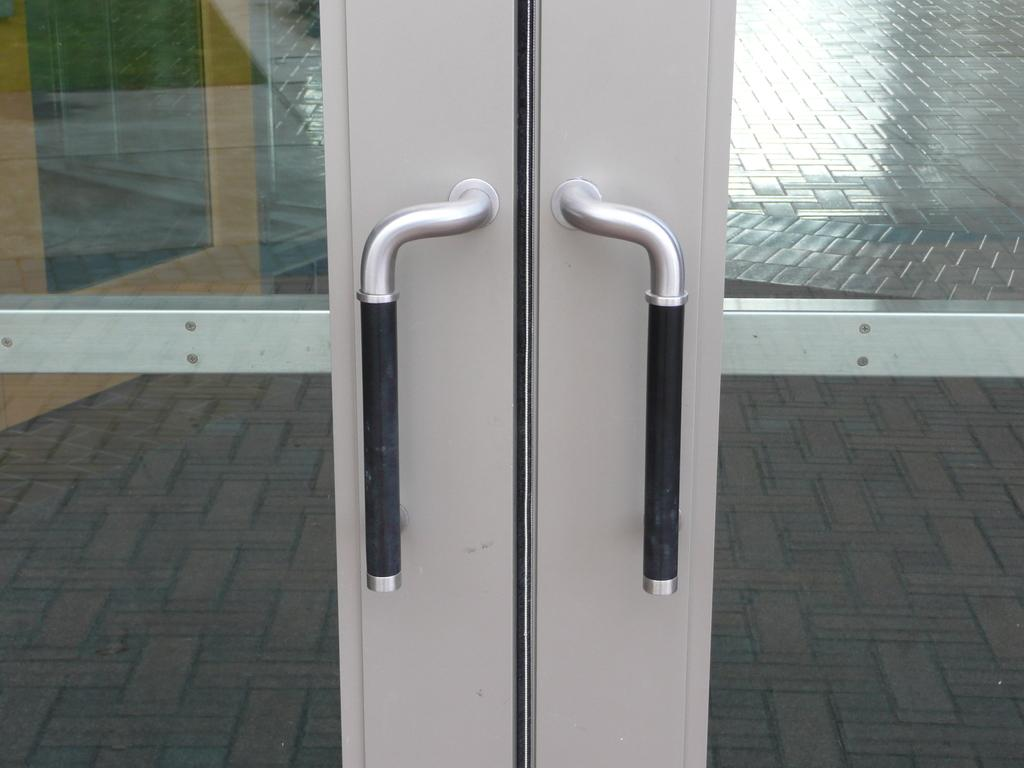handle: (346, 168, 494, 596), (554, 186, 690, 600)
